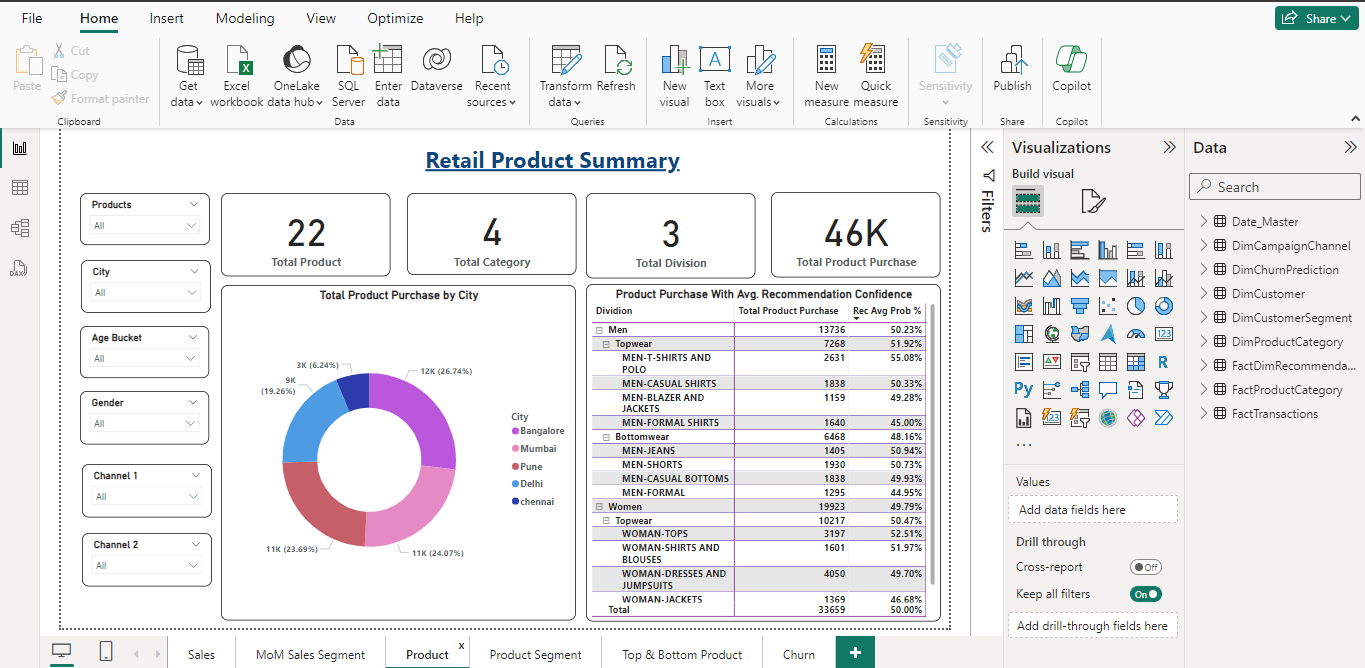

The page's visual inventory and layout, read from the dashboard file:
{"tool":"powerbi","page":{"name":"Product","canvas":[1280,720],"ordinal":2},"visuals":[{"type":"donutChart","fields":{"Y":["FactProductCategory.Product_Purchase"],"Category":["DimCustomer.CITY"]},"box":[230.3,225.9,510.8,482.8],"z":0},{"type":"card","fields":{"Values":["DimProductCategory.Total_Product"]},"box":[230.3,93,243.6,119.6],"z":1000},{"type":"card","fields":{"Values":["DimProductCategory.Total_Category"]},"box":[497.5,93,243.6,118.1],"z":2000},{"type":"slicer","fields":{"Values":["DimCustomer.CITY"]},"box":[29.1,189.6,186.6,76.5],"z":3000},{"type":"card","fields":{"Values":["DimProductCategory.Total_Division"]},"box":[755.9,93,243.6,122.5],"z":4000},{"type":"pivotTable","title":"Product Purchase With Avg. Recommendation Confidence","fields":{"Values":["FactProductCategory.Product_Purchase","FactDimRecommendation.Avg Probability &"],"Rows":["DimProductCategory.Dividion","DimProductCategory.Category","DimProductCategory.Products"]},"box":[755.9,224.4,510.8,485.7],"z":5000},{"type":"slicer","fields":{"Values":["DimCustomer.Age Bucket"]},"box":[28.1,284.9,186,75.3],"z":6000},{"type":"slicer","fields":{"Values":["DimCustomer.GENDER"]},"box":[28.1,379.4,186,76.8],"z":7000},{"type":"slicer","fields":{"Values":["DimProductCategory.Products"]},"box":[28.1,93,187.5,75.3],"z":8000},{"type":"card","fields":{"Values":["FactProductCategory.Product_Purchase"]},"box":[1023.1,91.5,243.6,122.5],"z":9000},{"type":"slicer","fields":{"Values":["DimCampaignChannel.RECOMMENDED CHANNEL 1"]},"box":[29.5,484.2,187.5,76.8],"z":10000},{"type":"slicer","fields":{"Values":["DimCampaignChannel.CHANNEL 2"]},"box":[29.5,583.2,187.5,76.8],"z":11000},{"type":"textbox","box":[503.4,17.7,407.5,65],"z":12000}]}

Visuals, with their boxes on the page's 1280x720 design canvas (x1, y1, x2, y2). These are canvas units, not pixel positions in the 1365x668 screenshot, which may show the page scaled, cropped or inside an application window:
donutChart - FactProductCategory.Product_Purchase x DimCustomer.CITY: x1=230, y1=226, x2=741, y2=709
card - DimProductCategory.Total_Product: x1=230, y1=93, x2=474, y2=213
card - DimProductCategory.Total_Category: x1=498, y1=93, x2=741, y2=211
slicer - DimCustomer.CITY: x1=29, y1=190, x2=216, y2=266
card - DimProductCategory.Total_Division: x1=756, y1=93, x2=1000, y2=216
"Product Purchase With Avg. Recommendation Confidence" pivotTable: x1=756, y1=224, x2=1267, y2=710
slicer - DimCustomer.Age Bucket: x1=28, y1=285, x2=214, y2=360
slicer - DimCustomer.GENDER: x1=28, y1=379, x2=214, y2=456
slicer - DimProductCategory.Products: x1=28, y1=93, x2=216, y2=168
card - FactProductCategory.Product_Purchase: x1=1023, y1=92, x2=1267, y2=214
slicer - DimCampaignChannel.RECOMMENDED CHANNEL 1: x1=30, y1=484, x2=217, y2=561
slicer - DimCampaignChannel.CHANNEL 2: x1=30, y1=583, x2=217, y2=660
textbox: x1=503, y1=18, x2=911, y2=83
